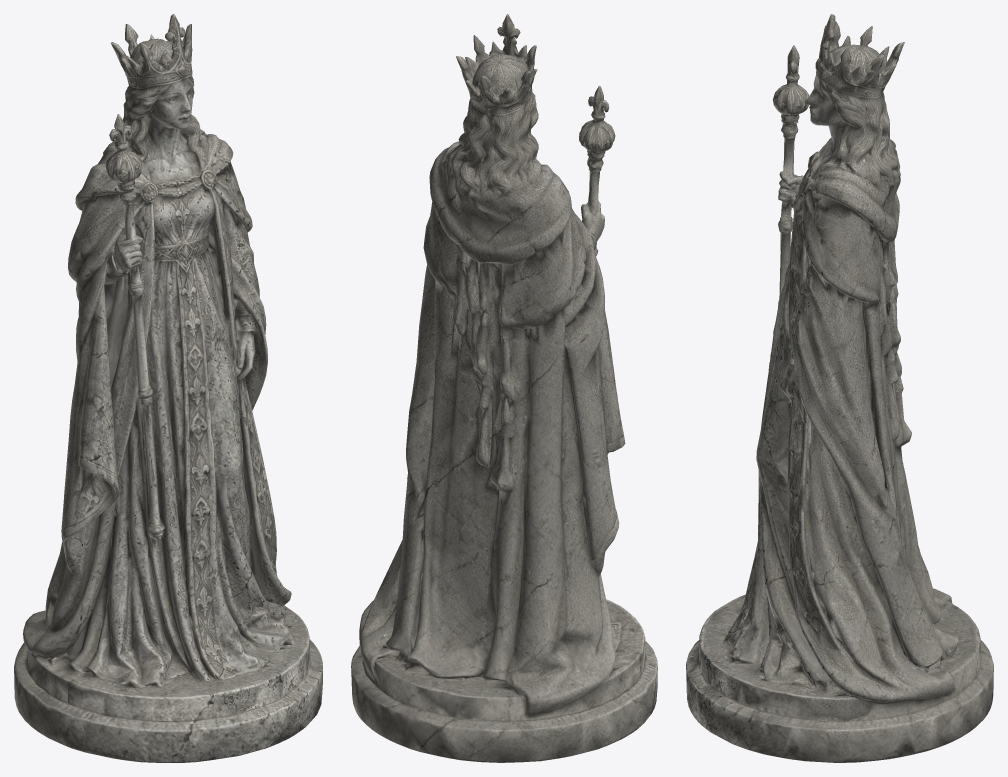
The picture shows the model from 3 angles, left to right: view 1: azimuth 30°, elevation 25°; view 2: azimuth 150°, elevation 25°; view 3: azimuth 270°, elevation 25°; orthographic projection.
Size of the model in its own units: 0.5917 by 1.46 by 0.5926.
Materials: 1 (1 with a texture image).
